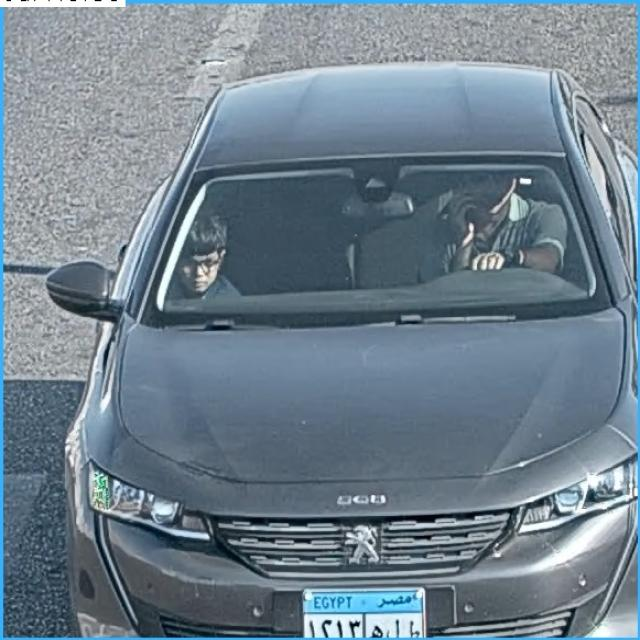windshield: (138, 153, 607, 314)
